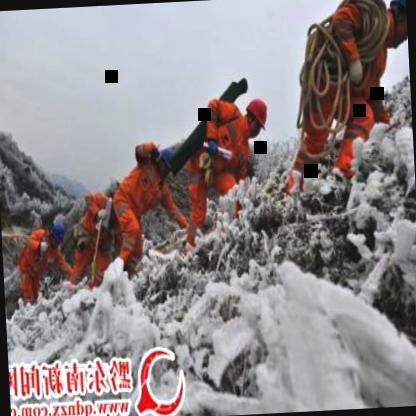helmet: (242, 94, 269, 135), (388, 0, 408, 50), (46, 219, 66, 247), (158, 145, 176, 176)
